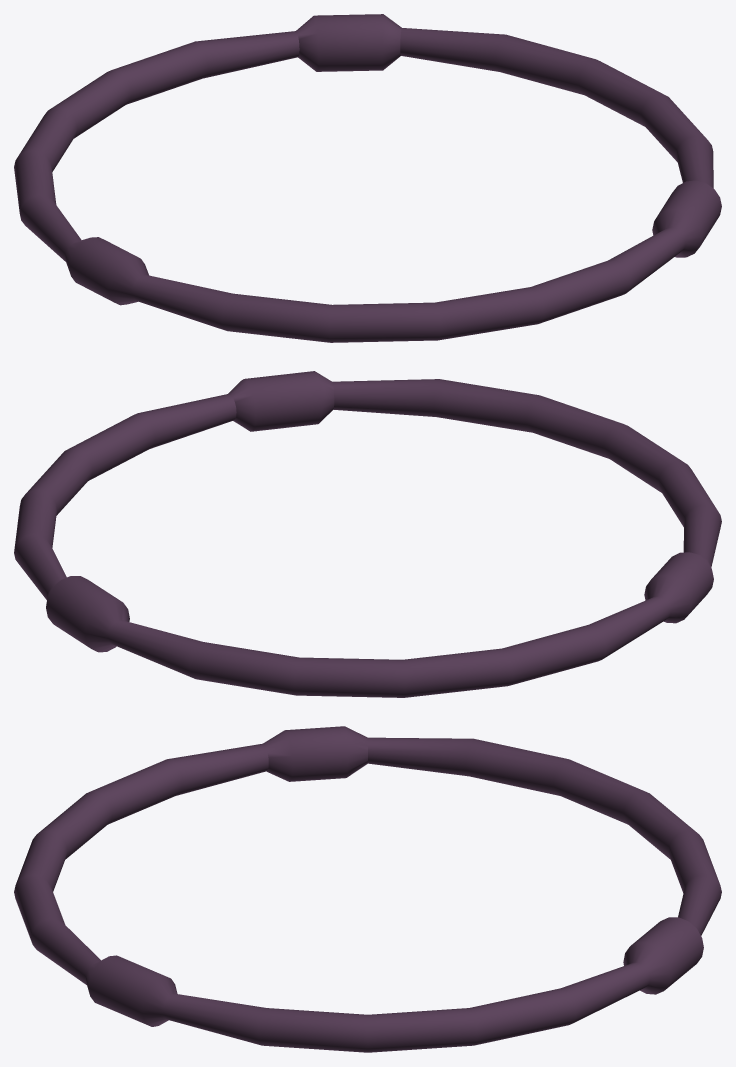
Rendered from Mesh_Ring.fbx.
The picture shows the model from 3 angles, top to bottom: view 1: azimuth 30°, elevation 25°; view 2: azimuth 150°, elevation 25°; view 3: azimuth 270°, elevation 25°; orthographic projection.
Parts seen in each view (by area): view 1: pTorus1; view 2: pTorus1; view 3: pTorus1.
Boxes of the visible parts, x1=… form: pTorus1: x1=14, y1=14, x2=721, y2=342; pTorus1: x1=14, y1=371, x2=721, y2=697; pTorus1: x1=14, y1=726, x2=721, y2=1052.
Size of the model in its own units: 336 by 26.68 by 335.
